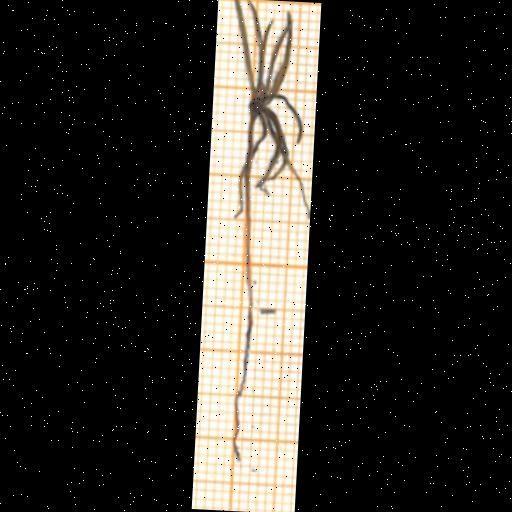flowerPinus: (235, 0, 302, 187)
rootPinus: (233, 305, 253, 462)
stemPinus: (245, 117, 253, 310)
